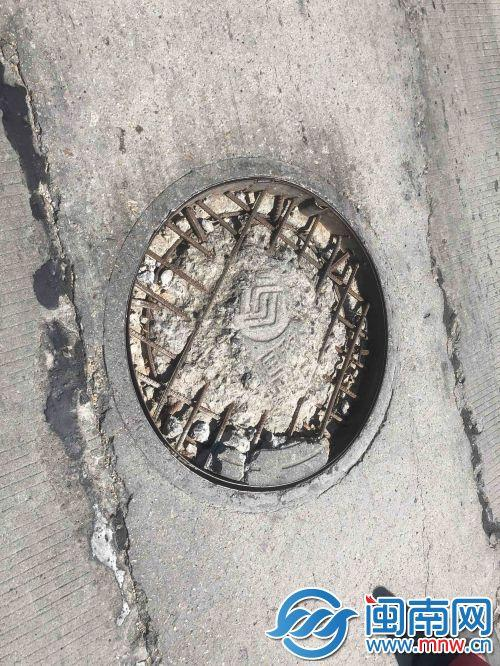broke: (87, 161, 414, 504)
